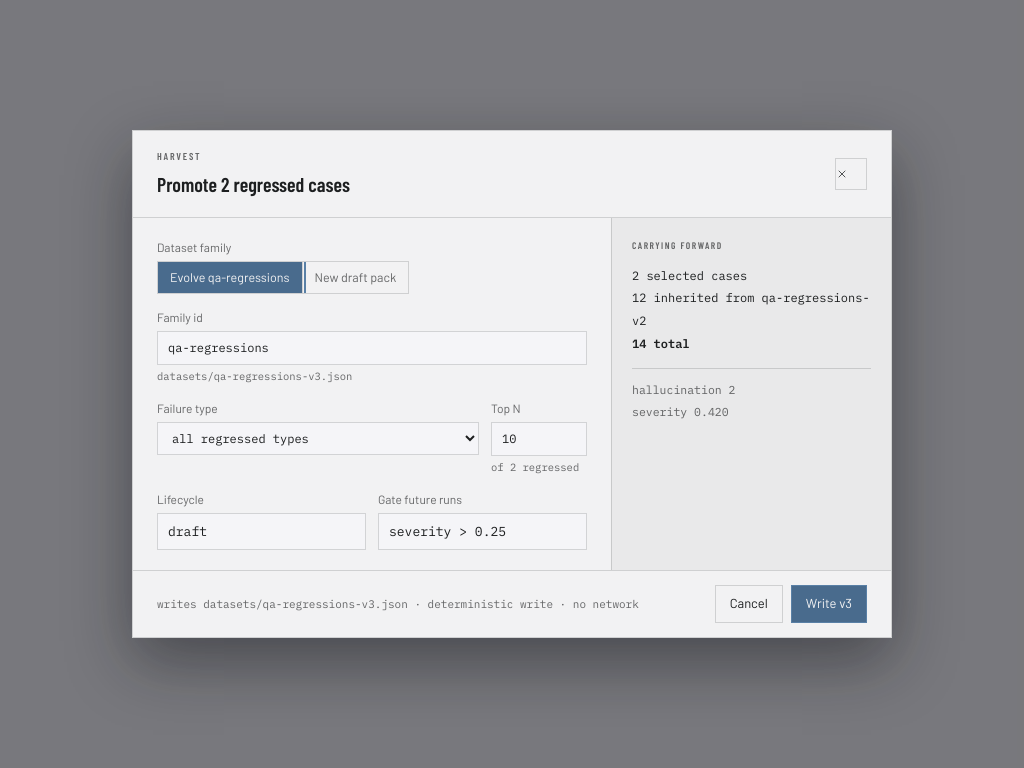
Test: HarvestDialog › error path shows the message and the CLI fallback
The width and height of the screenshot is (1024, 768).
Click the button "Write v3": (829, 604) [791,585,867,623]
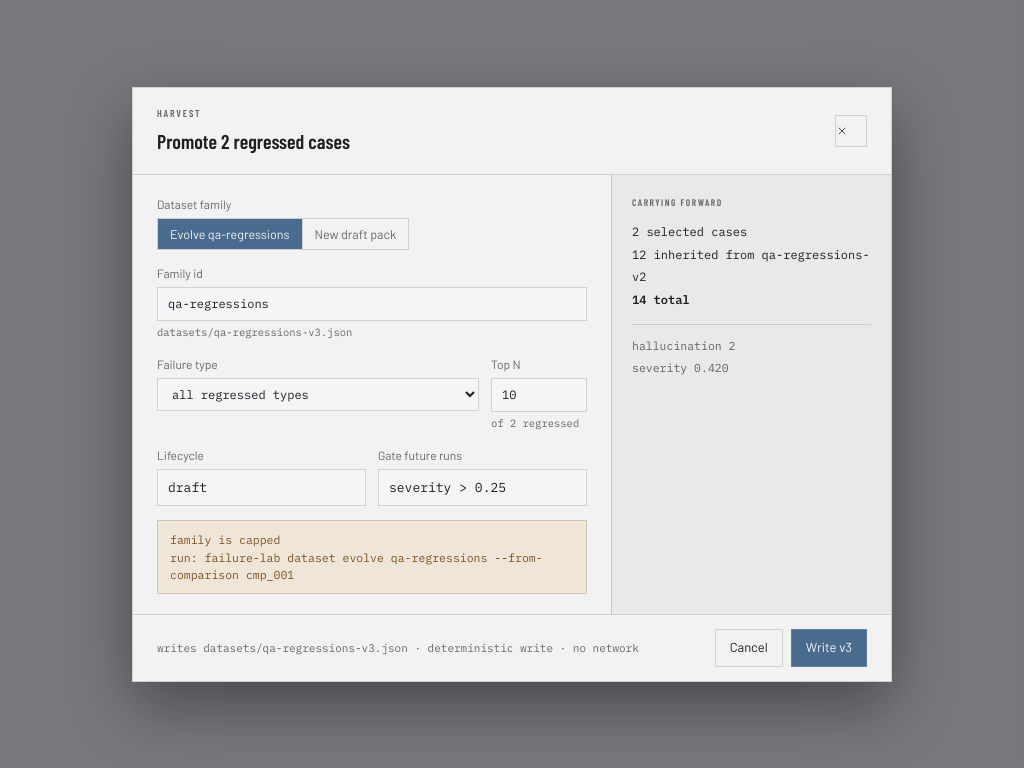
Expected: the dialog named "Harvest regressions" shows "family is capped", [170,532,280,547]
